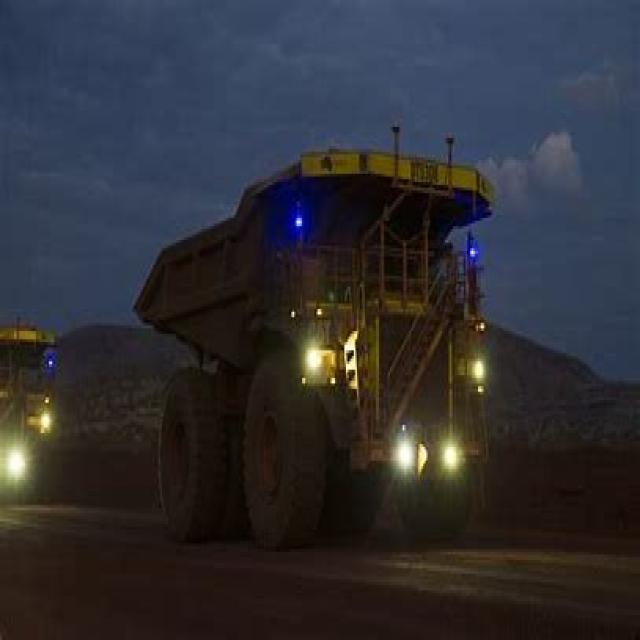dump_truck: (121, 127, 492, 543)
